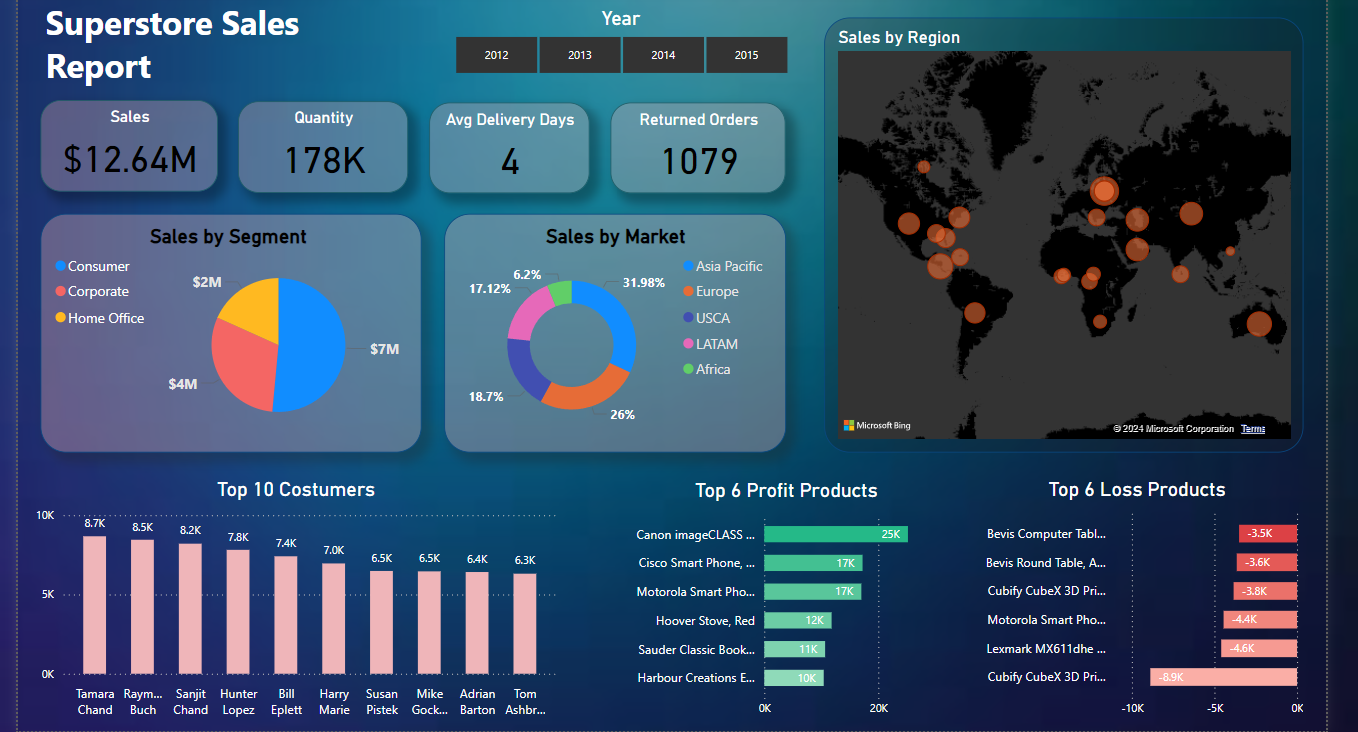

The dashboard page shown, as its layout file describes it:
{"tool":"powerbi","page":{"name":"Page 1","canvas":[1280,720],"ordinal":0},"visuals":[{"type":"card","title":"Sales","fields":{"Values":["Orders.Sales"]},"box":[22.1,103.3,173.3,89.5],"z":0},{"type":"card","title":"Quantity","fields":{"Values":["Orders.Quantity"]},"box":[215.1,104.5,166.3,89.5],"z":1000},{"type":"card","title":"Avg Delivery Days","fields":{"Values":["Orders.Delivery Days"]},"box":[402.4,105,156.5,88.4],"z":2000},{"type":"slicer","title":"Year","fields":{"Values":["Orders.Year"]},"box":[402.3,12.8,374.4,70.9],"z":3000},{"type":"card","title":"Returned Orders","fields":{"Values":["Returns.Returned Orders"]},"box":[580.2,105,171.1,88.4],"z":4000},{"type":"map","fields":{"Category":["Orders.Region"],"Size":["Orders.Sales"]},"box":[788.4,22.1,468.6,425.6],"z":5000},{"type":"clusteredBarChart","title":"Top 6 Profit Products","fields":{"Y":["Orders.Profit"],"Category":["Orders.Product Name"]},"box":[570.5,463.6,341.1,256.6],"z":6000},{"type":"clusteredBarChart","title":"Top 6 Loss Products","fields":{"Category":["Orders.Product Name"],"Y":["Orders.Profit"]},"box":[911.6,462.6,345,257.6],"z":7000},{"type":"clusteredColumnChart","title":"Top 10 Costumers","fields":{"Category":["Orders.Customer Name"],"Y":["Orders.Profit"]},"box":[17.5,462.6,529.7,257.6],"z":8000},{"type":"donutChart","fields":{"Category":["Orders.Market"],"Y":["Orders.Sales"]},"box":[416.9,214.3,334.3,233.4],"z":9000},{"type":"pieChart","fields":{"Category":["Orders.Segment"],"Y":["Orders.Sales"]},"box":[22.1,214,373.2,233.3],"z":10000},{"type":"textbox","box":[22,0,324.1,102.7],"z":11000}]}

Visuals, with their boxes on the page's 1280x720 design canvas (x1, y1, x2, y2). These are canvas units, not pixel positions in the 1358x732 screenshot, which may show the page scaled, cropped or inside an application window:
"Sales" card: <region>22, 103, 195, 193</region>
"Quantity" card: <region>215, 104, 381, 194</region>
"Avg Delivery Days" card: <region>402, 105, 559, 193</region>
"Year" slicer: <region>402, 13, 777, 84</region>
"Returned Orders" card: <region>580, 105, 751, 193</region>
map - Orders.Region x Orders.Sales: <region>788, 22, 1257, 448</region>
"Top 6 Profit Products" clusteredBarChart: <region>570, 464, 912, 720</region>
"Top 6 Loss Products" clusteredBarChart: <region>912, 463, 1257, 720</region>
"Top 10 Costumers" clusteredColumnChart: <region>18, 463, 547, 720</region>
donutChart - Orders.Market x Orders.Sales: <region>417, 214, 751, 448</region>
pieChart - Orders.Segment x Orders.Sales: <region>22, 214, 395, 447</region>
textbox: <region>22, 0, 346, 103</region>
